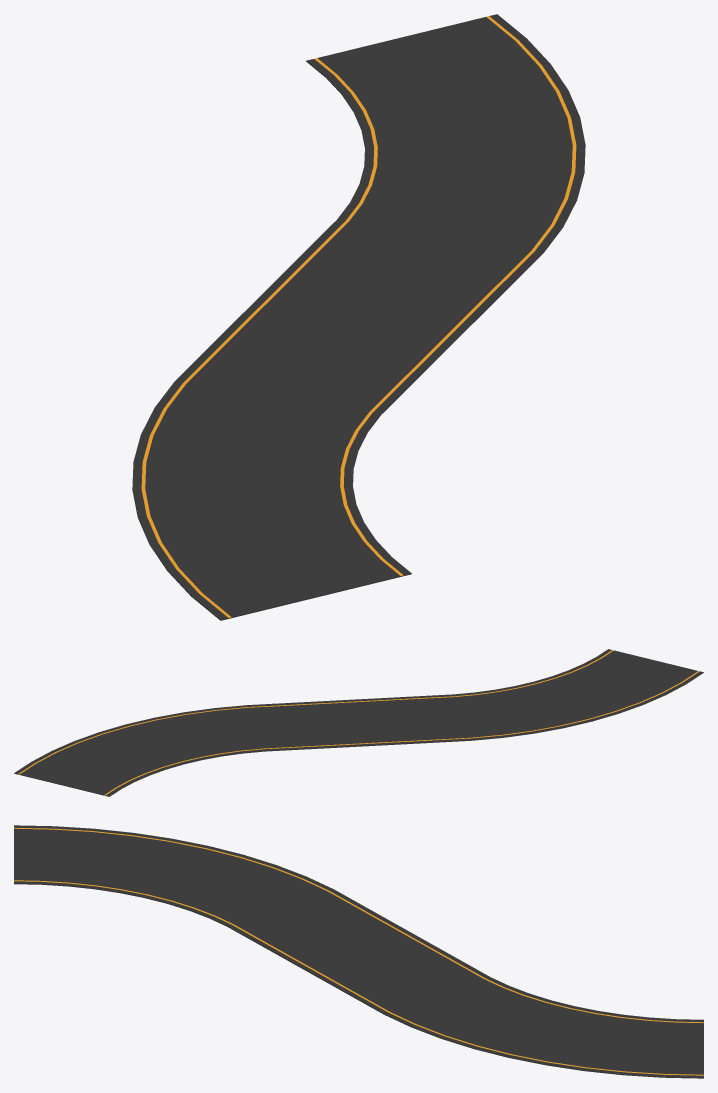
File: SM_Racetrack_Plain_Shift_60x60m.fbx
The picture shows the model from 3 angles, top to bottom: view 1: azimuth 30°, elevation 25°; view 2: azimuth 150°, elevation 25°; view 3: azimuth 270°, elevation 25°; orthographic projection. The views are drawn at different scales.
Visible parts, largest first — view 1: SM_Racetrack_Plain_Shift_60x60m; view 2: SM_Racetrack_Plain_Shift_60x60m; view 3: SM_Racetrack_Plain_Shift_60x60m.
Boxes of the visible parts, x1,y1,x2,y2 form: SM_Racetrack_Plain_Shift_60x60m: [132, 14, 585, 620]; SM_Racetrack_Plain_Shift_60x60m: [14, 649, 703, 796]; SM_Racetrack_Plain_Shift_60x60m: [14, 825, 703, 1078].
Bounding box in the file's own units: 52 × 0.05 × 60.
